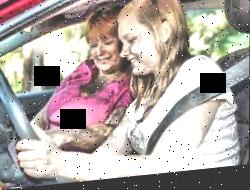seatbelt: (144, 61, 249, 157)
